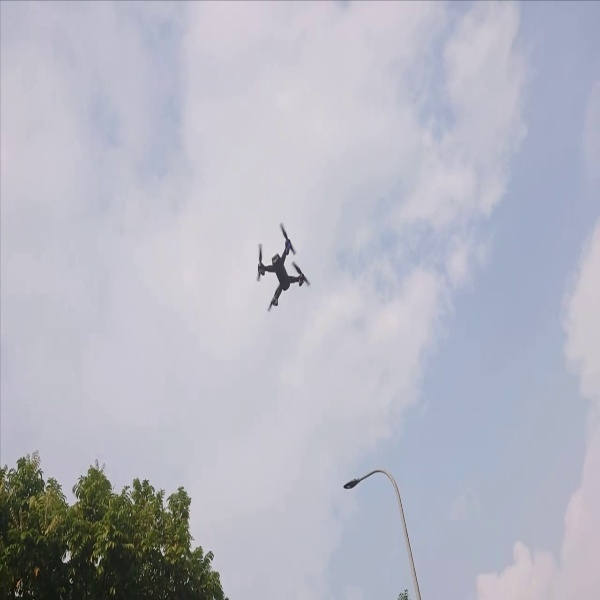drone: (248, 219, 319, 318)
